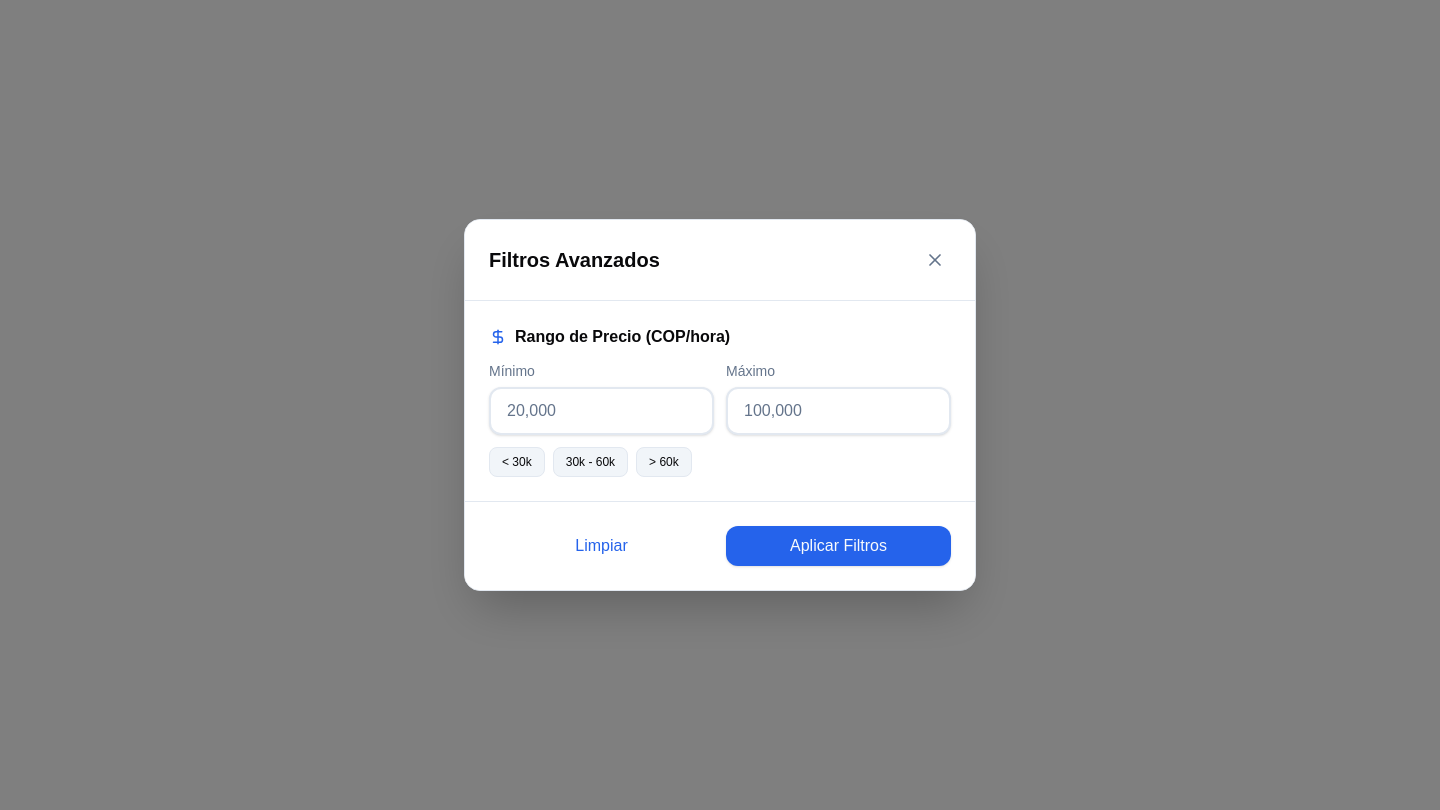
FilterModal Component › handles inputs and presets values correctly
The width and height of the screenshot is (1440, 810).
Type "15000" into the number field with placeholder "20,000" at {"x": 602, "y": 411}, box [489,387,714,435]
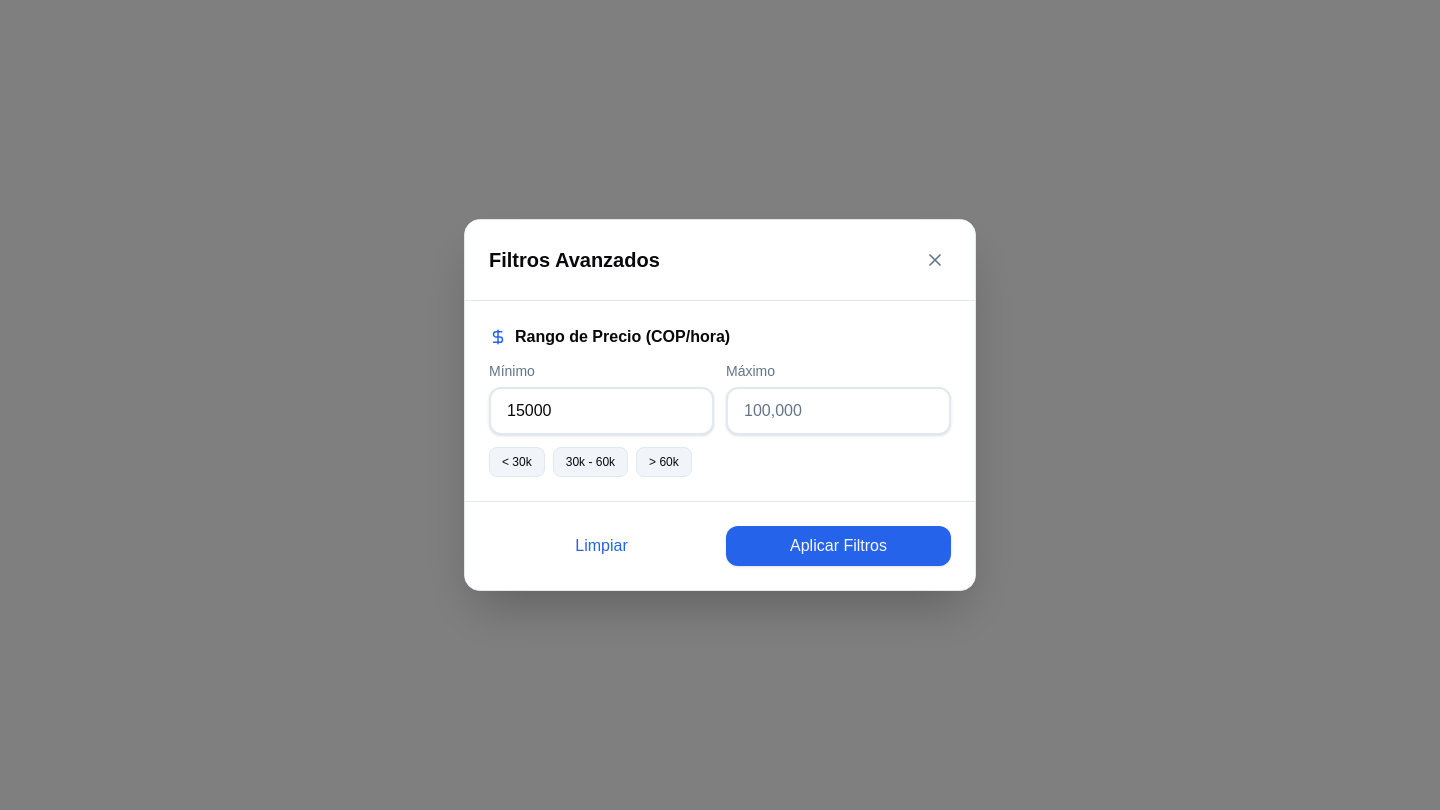
Type "95000" into the number field with placeholder "100,000" at {"x": 838, "y": 411}, box [726,387,951,435]
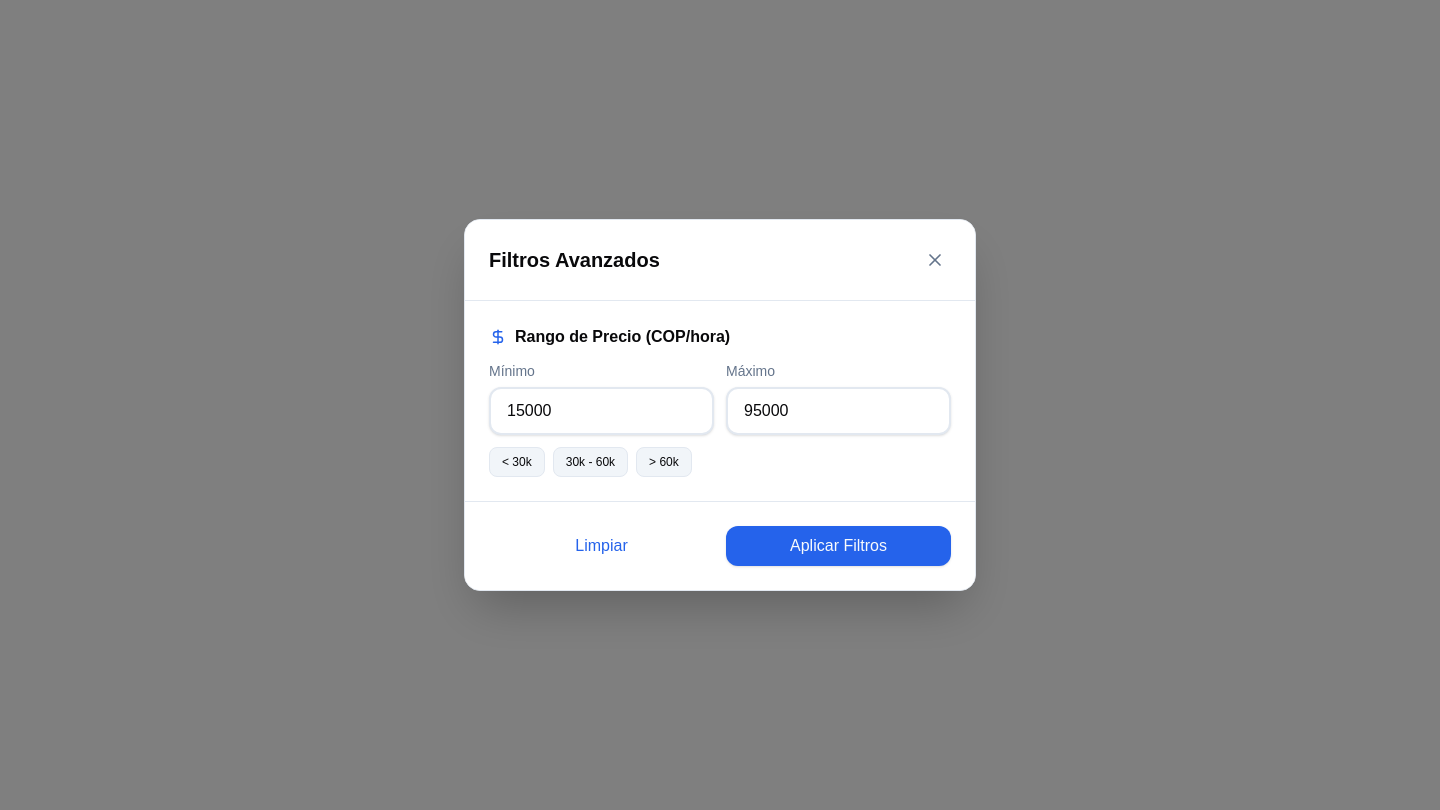
# Click preset "30k - 60k"
Click the button "30k - 60k" at {"x": 590, "y": 462}, box [553,447,628,477]
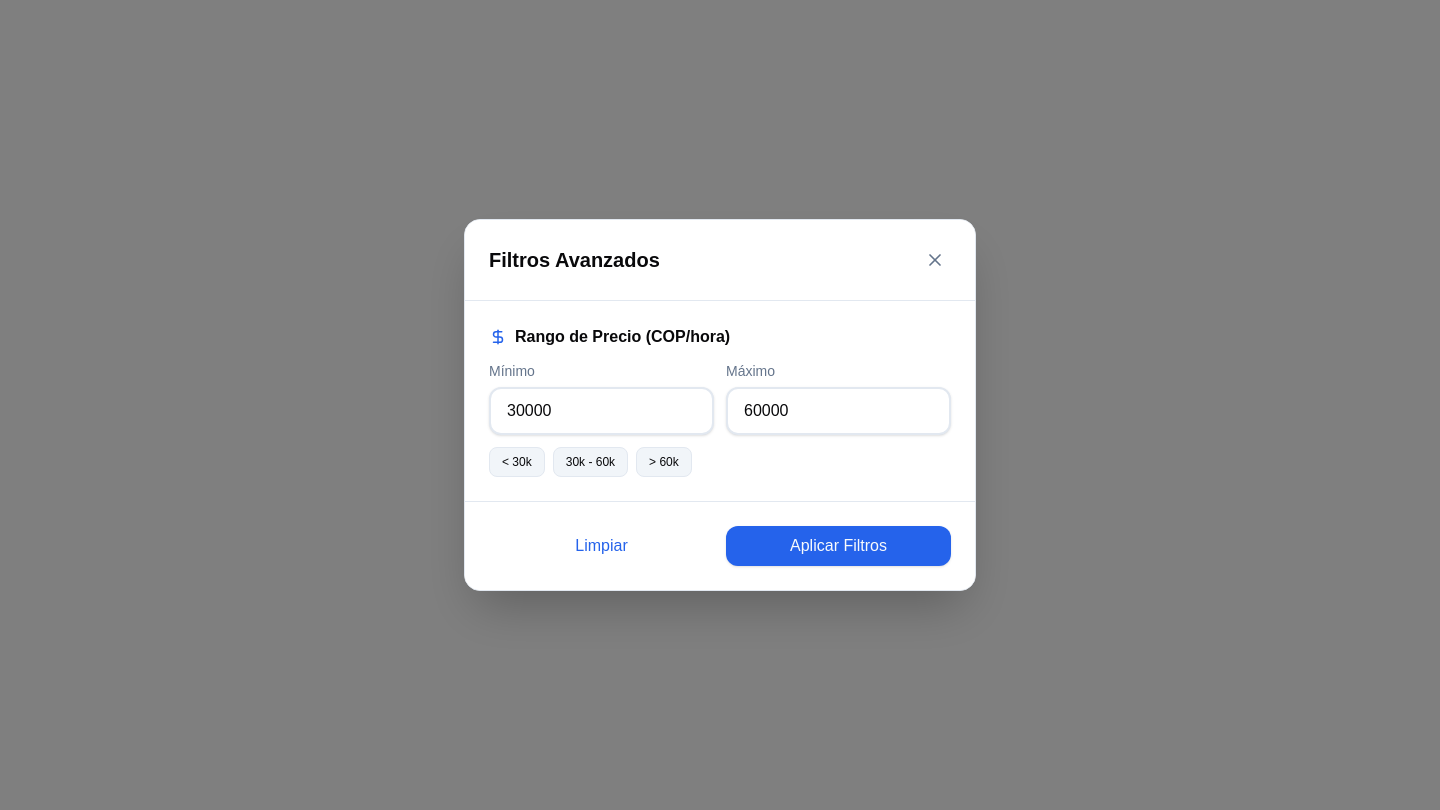
Expected: the number field with placeholder "20,000" below "Mínimo" holds "30000", [489,387,714,435]
Expected: the number field with placeholder "100,000" below "Máximo" holds "60000", [726,387,951,435]
Click the button "< 30k" at {"x": 517, "y": 462}, box [489,447,545,477]
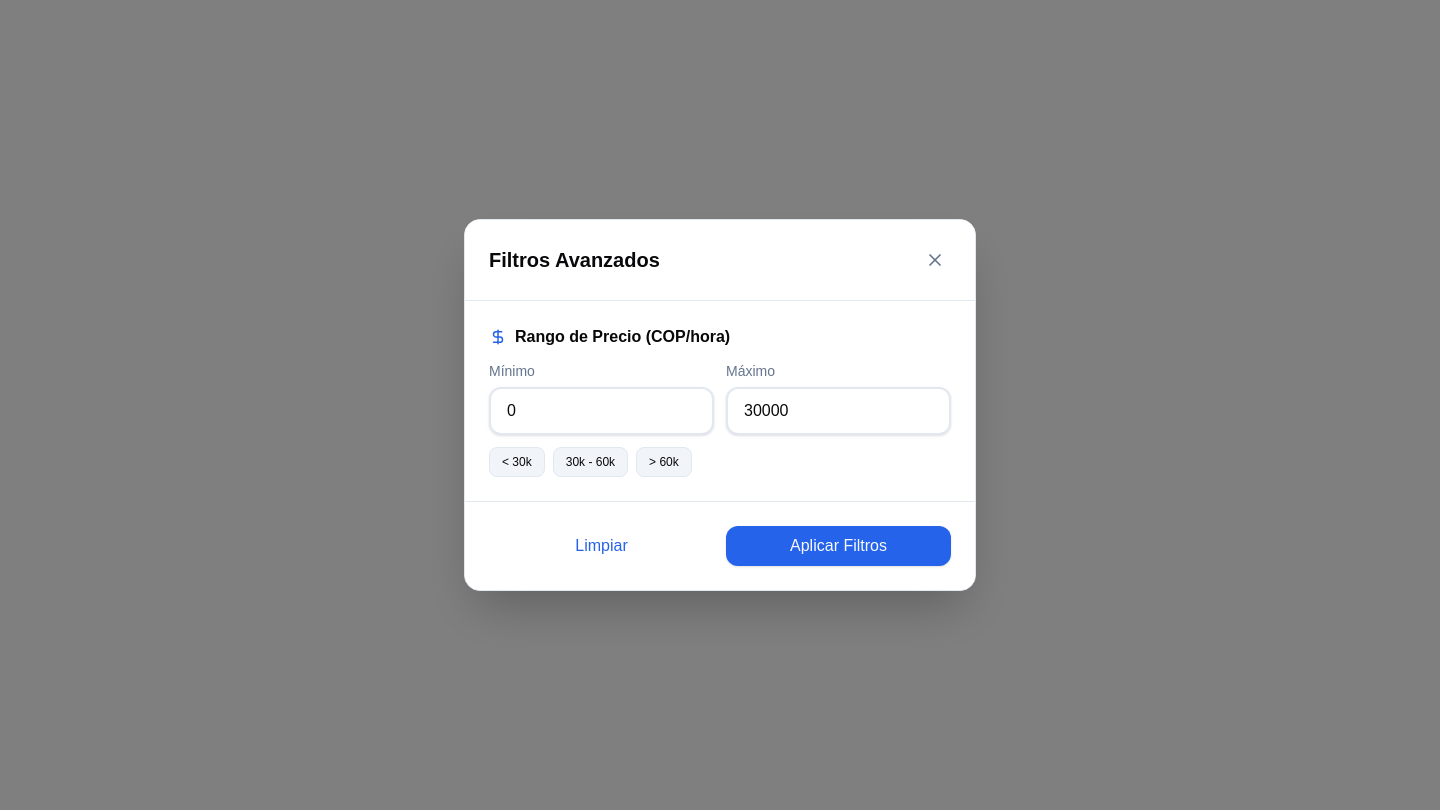
Expected: the number field with placeholder "20,000" below "Mínimo" holds "0", [489,387,714,435]
Expected: the number field with placeholder "100,000" below "Máximo" holds "30000", [726,387,951,435]
